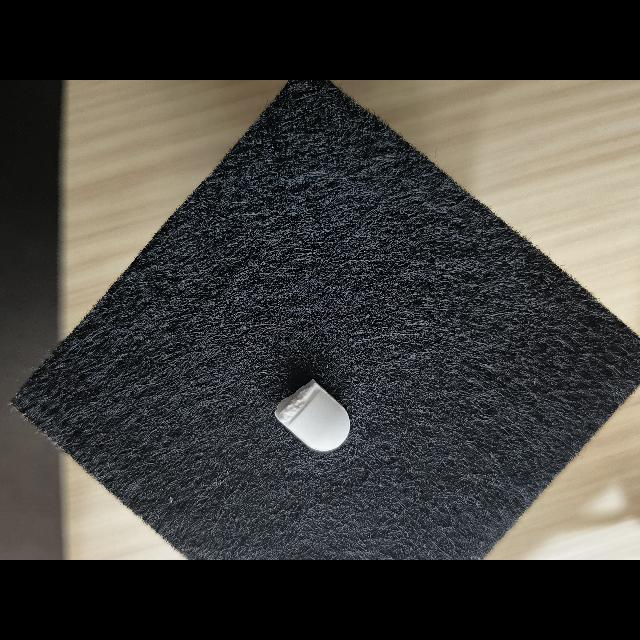Chipped Pill: (274, 379, 350, 451)
